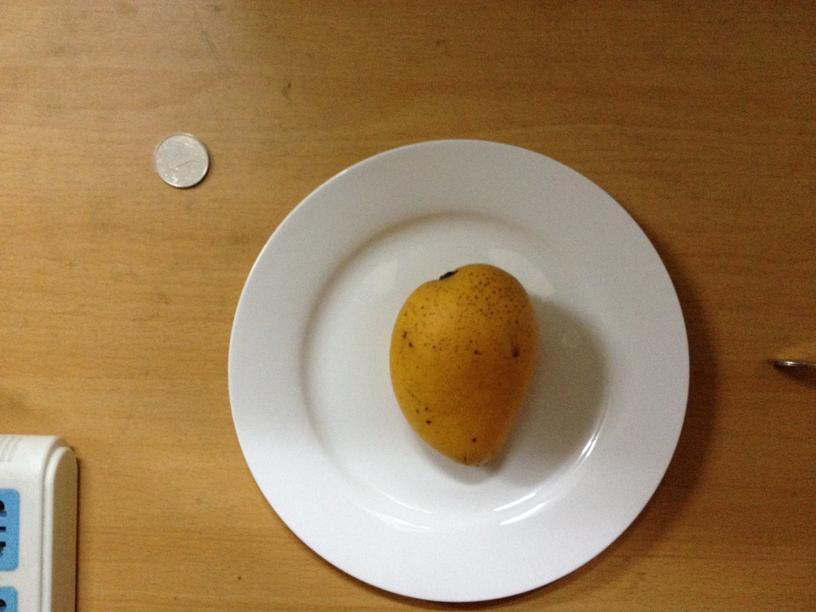coin: (152, 133, 209, 189)
mango: (392, 263, 534, 468)
